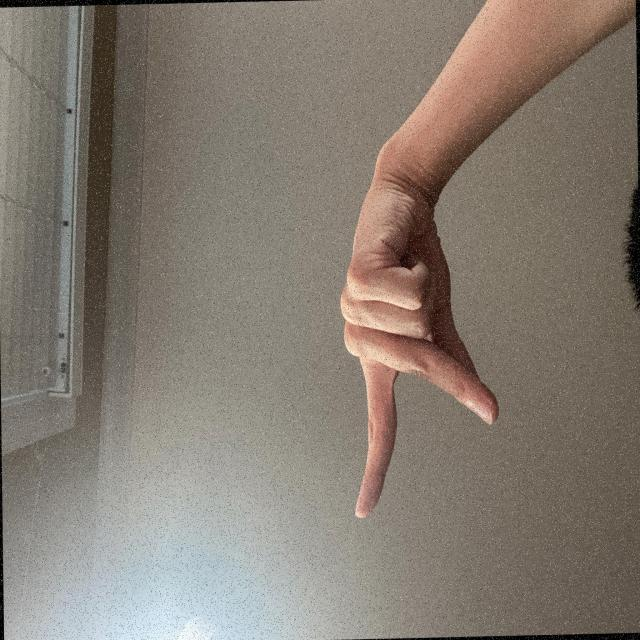P: (85, 445, 380, 640)
